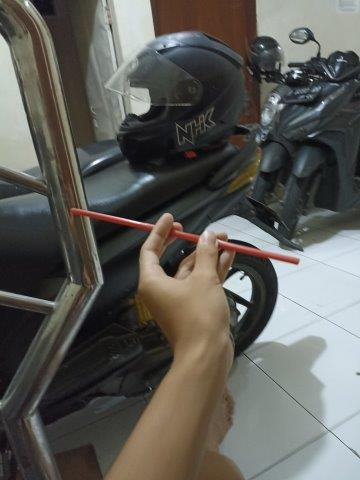sedotan: (71, 208, 299, 266)
